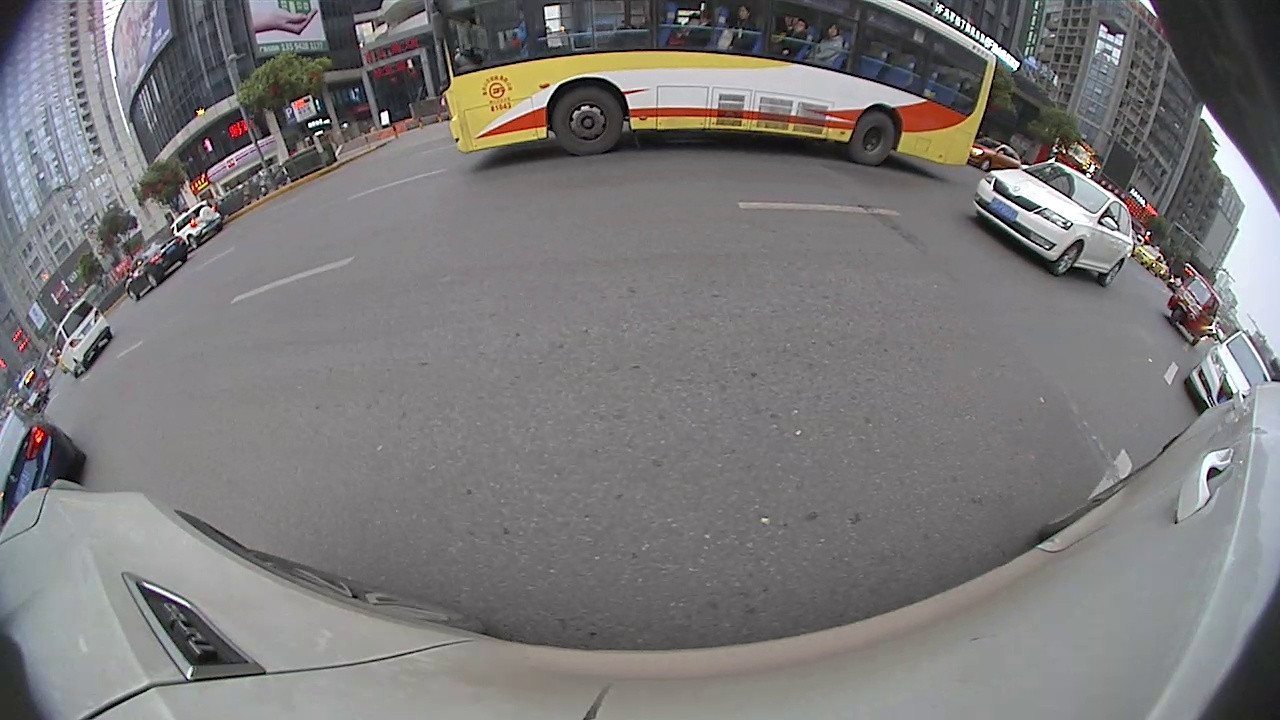bus: (422, 0, 999, 174)
car: (966, 168, 1138, 286), (1, 406, 88, 529), (1186, 331, 1274, 413), (49, 294, 119, 382), (123, 226, 190, 301), (168, 204, 228, 249)
front: (552, 87, 625, 156), (1050, 238, 1083, 278)
rear: (847, 110, 897, 168), (1100, 257, 1125, 291), (146, 272, 161, 290)
rider: (1166, 271, 1223, 337)
